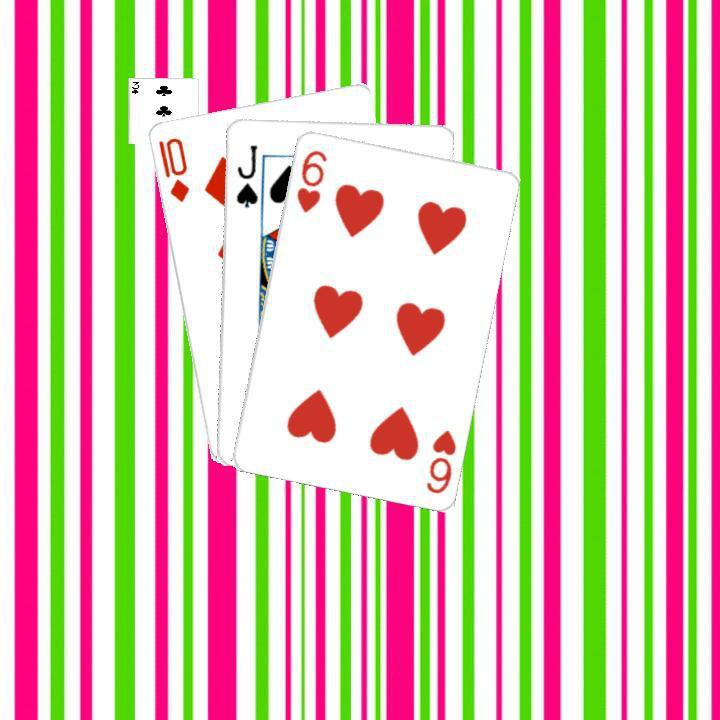10: (153, 132, 191, 204)
6: (291, 145, 329, 214), (421, 425, 458, 495)
J: (231, 140, 259, 209)
